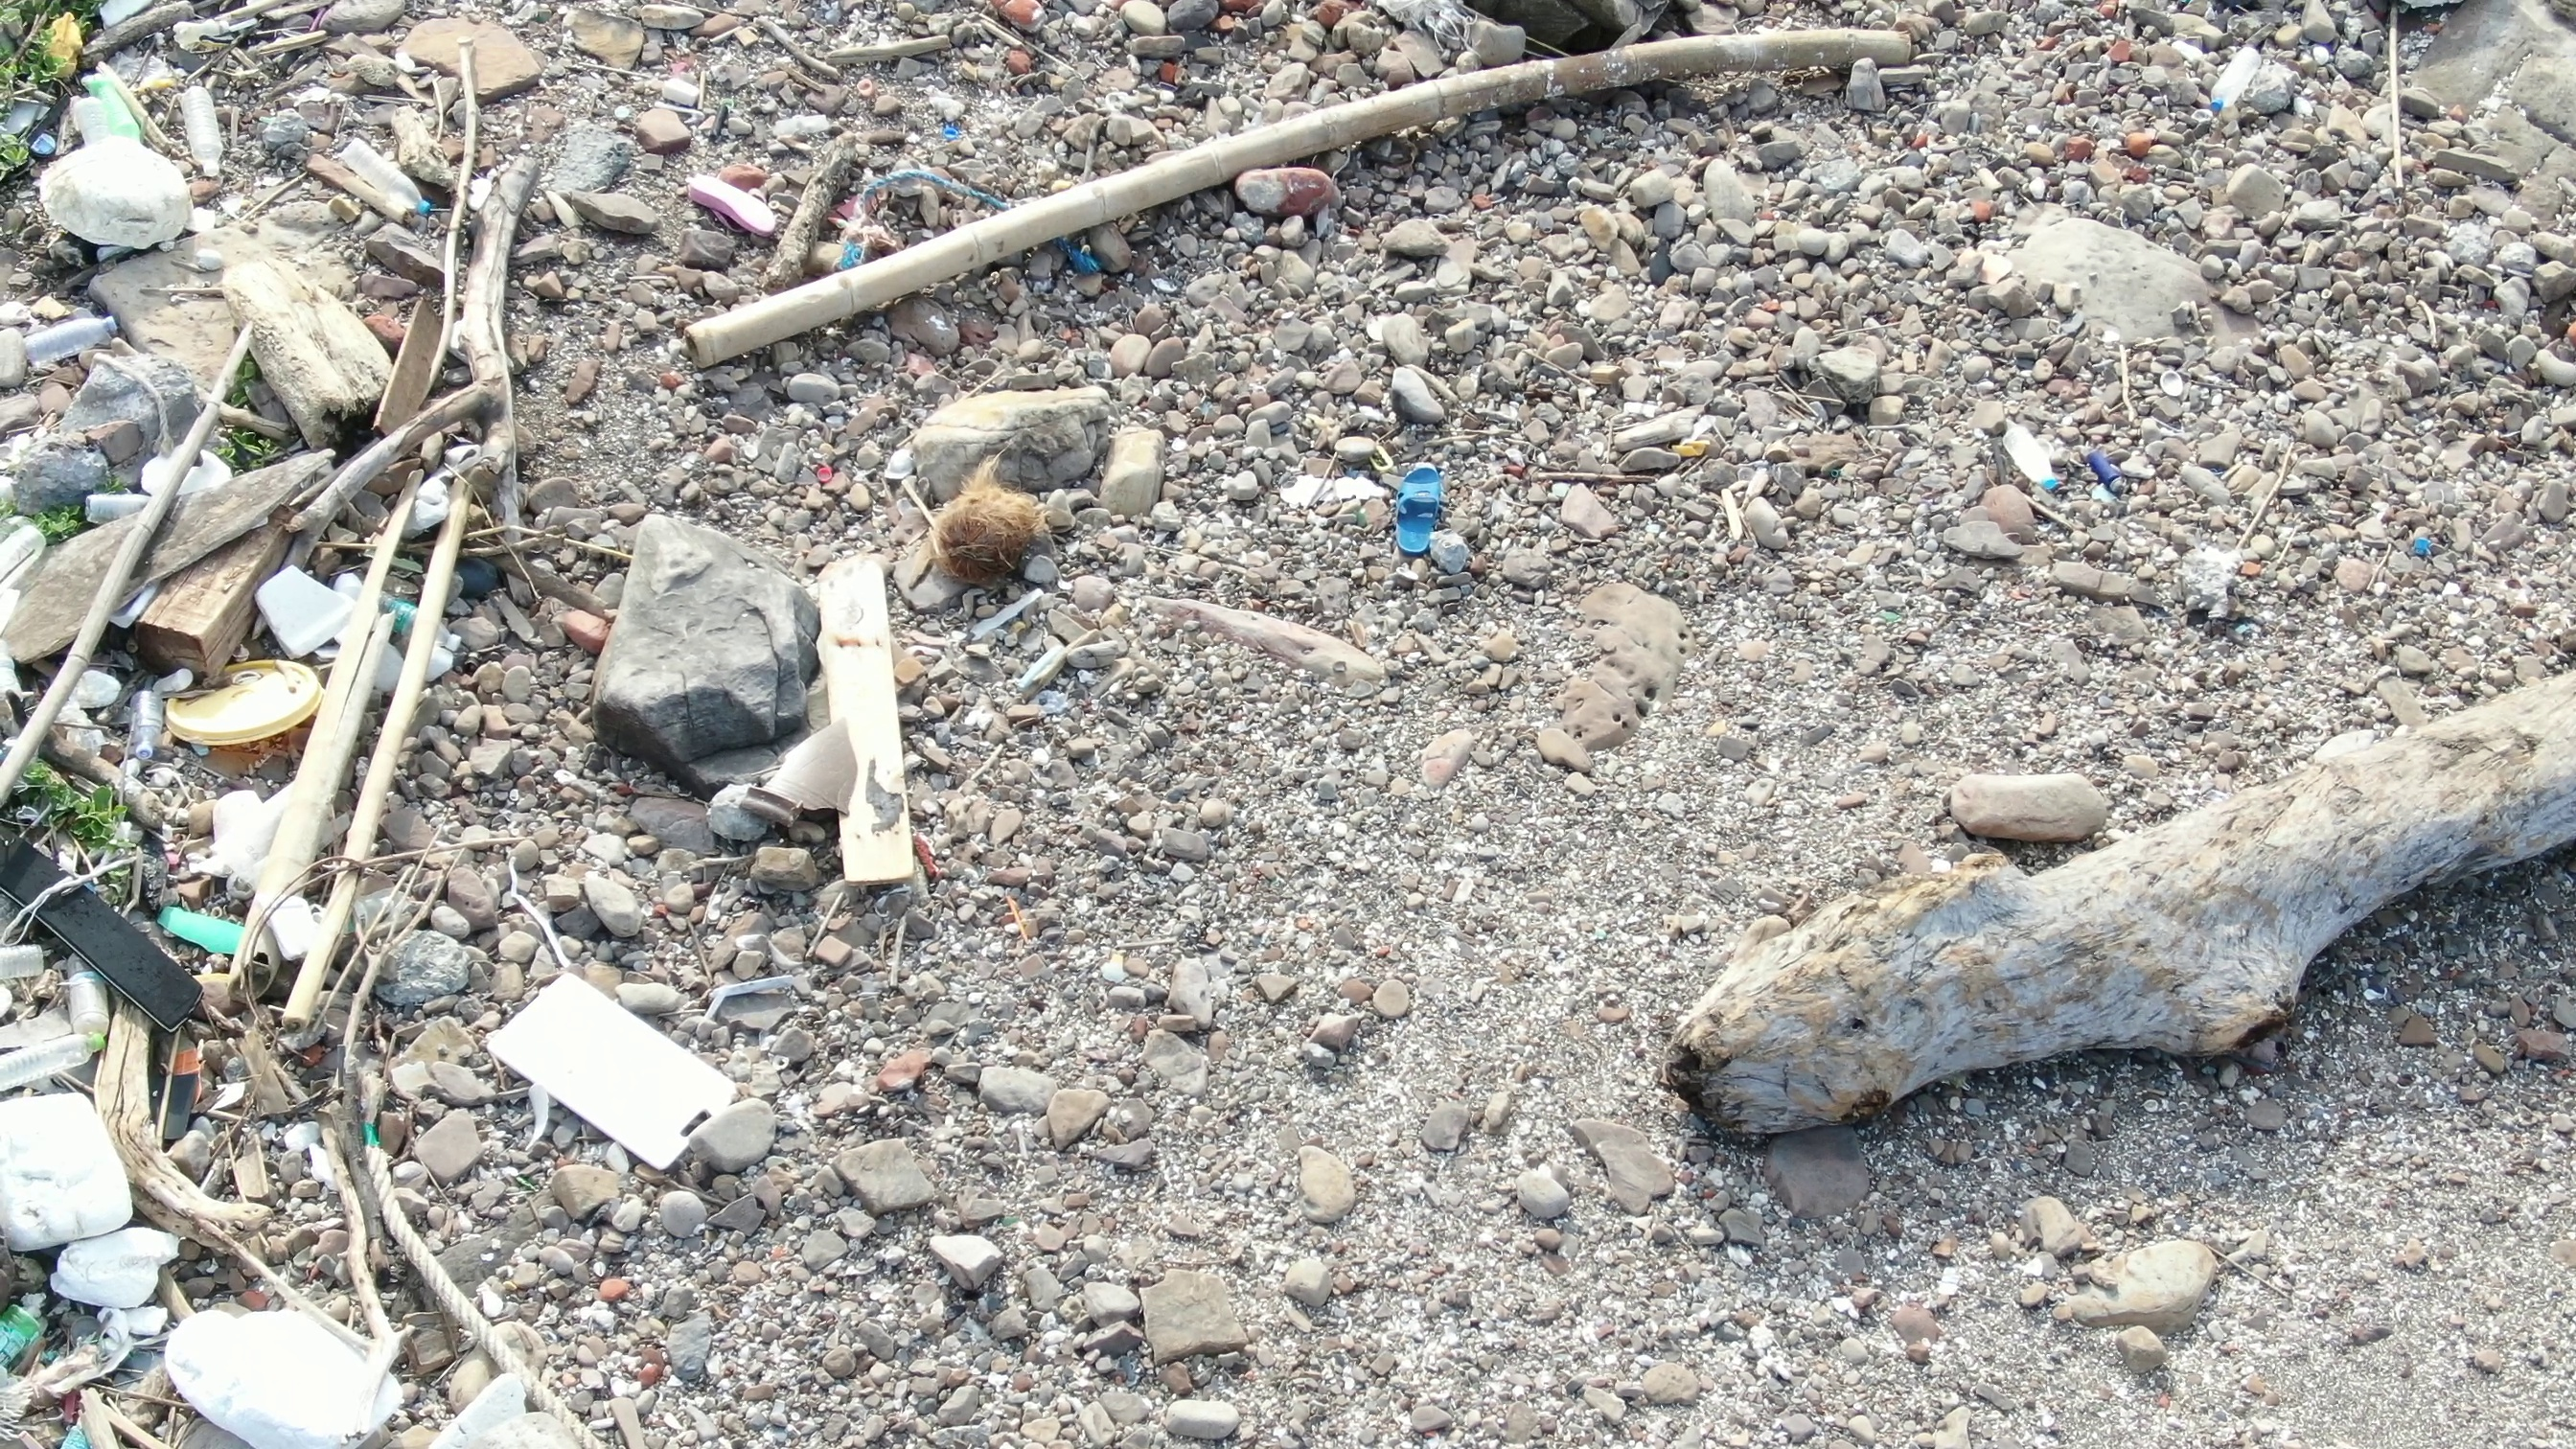bottle: (338, 126, 442, 226), (349, 579, 469, 658), (177, 51, 232, 186), (25, 306, 124, 375), (67, 64, 143, 149), (2203, 32, 2268, 119), (120, 678, 165, 766), (2, 1292, 44, 1366)
garbage: (4, 412, 439, 1449), (842, 154, 1118, 303), (695, 692, 876, 856), (2, 7, 88, 170), (685, 157, 780, 244), (1387, 446, 1447, 577), (2074, 446, 2125, 490), (2403, 531, 2443, 557)
